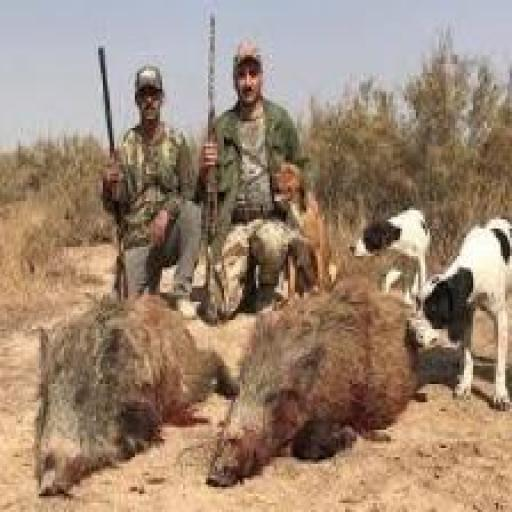Pig: (28, 283, 244, 512), (199, 276, 424, 495)
